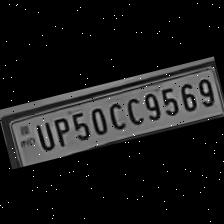0: (83, 102, 108, 136)
5: (64, 106, 92, 142), (154, 81, 180, 117)
6: (174, 77, 198, 112)
9: (190, 71, 217, 109), (136, 86, 162, 122)
C: (102, 97, 127, 130), (120, 92, 144, 126)
P: (48, 112, 72, 148)
U: (28, 116, 55, 154)
